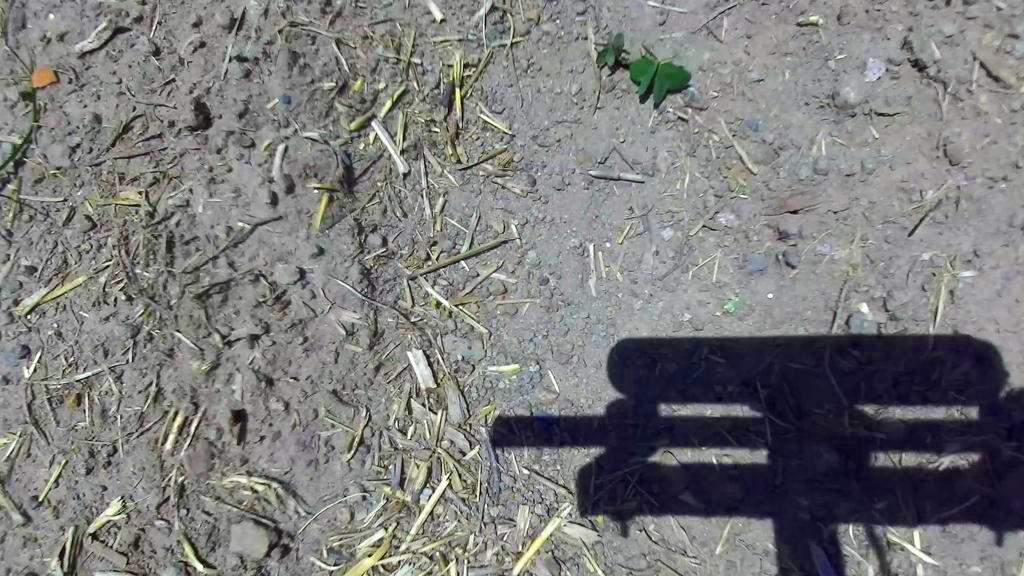BroWeed: (620, 43, 696, 113), (585, 26, 634, 75), (430, 295, 438, 306)
